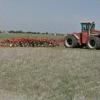Tractor: (57, 14, 100, 56)
